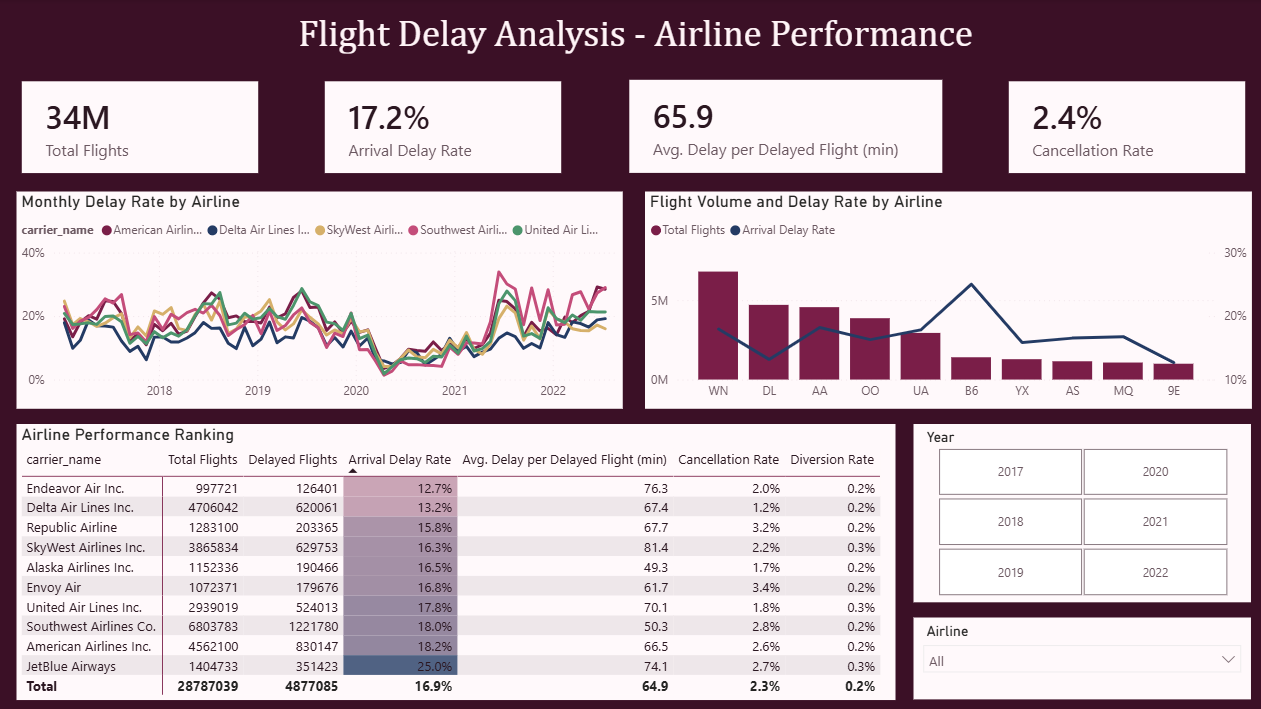

Layout of this report page (visuals, bound fields, positions):
{"tool":"powerbi","page":{"name":"Airline Performance","canvas":[1280,720],"ordinal":1},"visuals":[{"type":"textbox","box":[8.9,8.1,1271.1,53.4],"z":0},{"type":"slicer","fields":{"Values":["airline.year"]},"box":[925.7,429.5,340.4,179.7],"z":1000},{"type":"slicer","fields":{"Values":["airline.carrier_name"]},"box":[925.7,625.1,340.4,82.7],"z":2000},{"type":"lineChart","title":"Monthly Delay Rate by Airline","fields":{"Y":["airline.Arrival Delay Rate"],"Series":["airline.carrier_name"],"Category":["airline.MonthDate"]},"box":[19.1,195.6,612,219.5],"z":3000},{"type":"lineClusteredColumnComboChart","title":"Flight Volume and Delay Rate by Airline","fields":{"Y":["airline.Total Flights"],"Y2":["airline.Arrival Delay Rate"],"Category":["airline.carrier"]},"box":[653.7,195.6,612.4,219.5],"z":4000},{"type":"pivotTable","title":"Airline Performance Ranking","fields":{"Rows":["airline.carrier_name"],"Values":["airline.Total Flights","airline.Delayed Flights","airline.Arrival Delay Rate","airline.Avg Delay per Delayed Flight","airline.Cancellation Rate","airline.Diversion Rate"]},"box":[19.1,429.5,887.6,278.4],"z":5000},{"type":"cardVisual","fields":{"Data":["airline.Total Flights"]},"box":[19.1,78,249.7,103.4],"z":6000},{"type":"cardVisual","fields":{"Data":["airline.Arrival Delay Rate"]},"box":[326.1,78,249.7,103.4],"z":7000},{"type":"cardVisual","fields":{"Data":["airline.Cancellation Rate"]},"box":[1016.4,78,249.7,103.4],"z":8000},{"type":"cardVisual","fields":{"Data":["airline.Average Delay per Delayed Flight"]},"box":[633.1,77.7,326.1,104],"z":9000}]}

Visuals, with their boxes in screenshot pixels (x1, y1, x2, y2), scaled from the page's 1280x720 canvas onto the 1261x709 screenshot:
textbox: rect(9, 8, 1260, 61)
slicer - airline.year: rect(912, 423, 1247, 600)
slicer - airline.carrier_name: rect(912, 616, 1247, 697)
"Monthly Delay Rate by Airline" lineChart: rect(19, 193, 622, 409)
"Flight Volume and Delay Rate by Airline" lineClusteredColumnComboChart: rect(644, 193, 1247, 409)
"Airline Performance Ranking" pivotTable: rect(19, 423, 893, 697)
cardVisual - airline.Total Flights: rect(19, 77, 265, 179)
cardVisual - airline.Arrival Delay Rate: rect(321, 77, 567, 179)
cardVisual - airline.Cancellation Rate: rect(1001, 77, 1247, 179)
cardVisual - airline.Average Delay per Delayed Flight: rect(624, 77, 945, 179)
